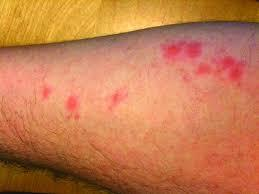Bed Bugs: (209, 50, 250, 88), (160, 39, 202, 58), (101, 84, 129, 112), (66, 95, 79, 119), (195, 63, 211, 75), (42, 87, 50, 98)
